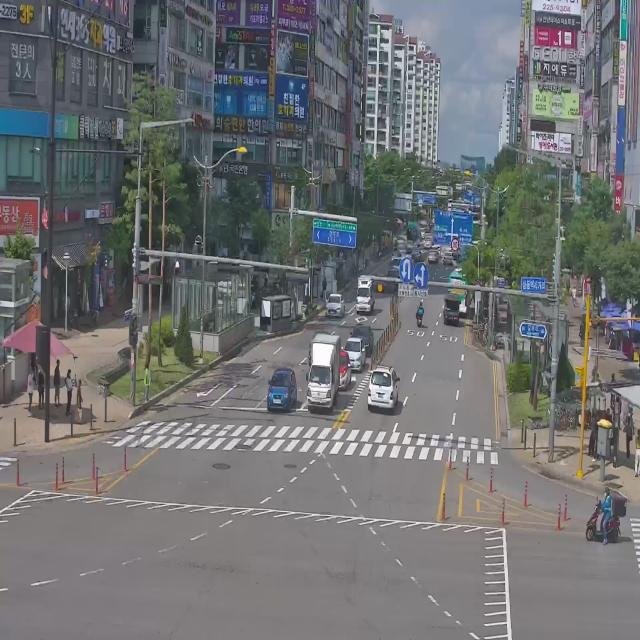Bus: (448, 266, 470, 318)
Car: (367, 365, 400, 410), (267, 367, 297, 412), (331, 346, 353, 394), (351, 315, 375, 355), (341, 334, 366, 369), (443, 292, 460, 326), (324, 293, 344, 317)
Motorcycle: (584, 485, 628, 544), (416, 300, 424, 326)
Truck: (307, 333, 341, 410), (355, 273, 377, 314)
